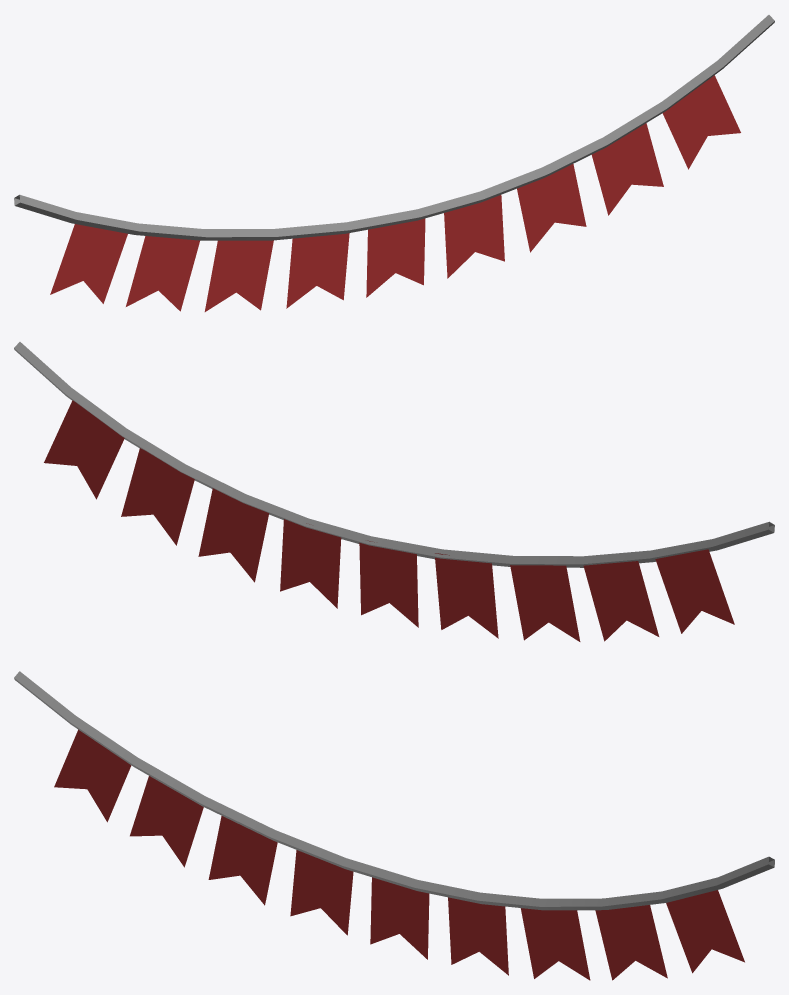
Rendered from flags_01.fbx.
The picture shows the model from 3 angles, top to bottom: view 1: azimuth 30°, elevation 25°; view 2: azimuth 150°, elevation 25°; view 3: azimuth 330°, elevation 25°; orthographic projection.
Parts seen in each view (by area): view 1: flags_01; view 2: flags_01; view 3: flags_01.
Part boxes in pixels (box(x1,y1,x2,y2)): flags_01: box(14, 15, 774, 311); flags_01: box(14, 342, 774, 641); flags_01: box(14, 671, 774, 980).
Bounding box in the file's own units: 501 × 120 × 7.14.
